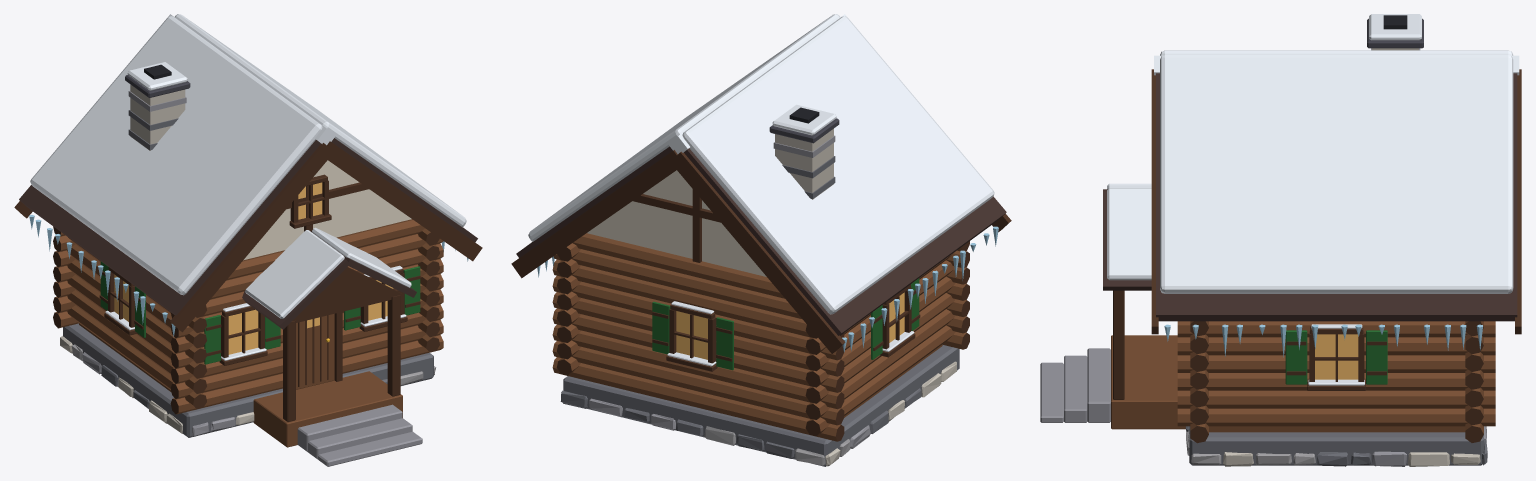
The model's file is cabin.obj.
The picture shows the model from 3 angles, left to right: view 1: azimuth 30°, elevation 25°; view 2: azimuth 150°, elevation 25°; view 3: azimuth 270°, elevation 25°; orthographic projection. The views are drawn at different scales.
Parts seen in each view (by area): view 1: cabin_Structure, cabin_Windows, cabin_Icicles; view 2: cabin_Structure, cabin_Windows, cabin_Icicles; view 3: cabin_Structure, cabin_Windows, cabin_Icicles.
Boxes of the visible parts, x1,y1,x2,y2 form: cabin_Structure: [14, 14, 482, 466]; cabin_Windows: [114, 182, 393, 354]; cabin_Icicles: [29, 215, 468, 336]; cabin_Structure: [511, 14, 1011, 466]; cabin_Windows: [676, 292, 904, 359]; cabin_Icicles: [537, 226, 998, 352]; cabin_Structure: [1040, 14, 1521, 466]; cabin_Windows: [1315, 334, 1358, 379]; cabin_Icicles: [1164, 324, 1482, 357].
Size of the model in its own units: 21.29 by 19.31 by 24.53.
Materials: 1 (1 with a texture image).
